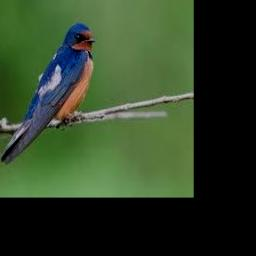Swallow: (0, 24, 96, 164)
